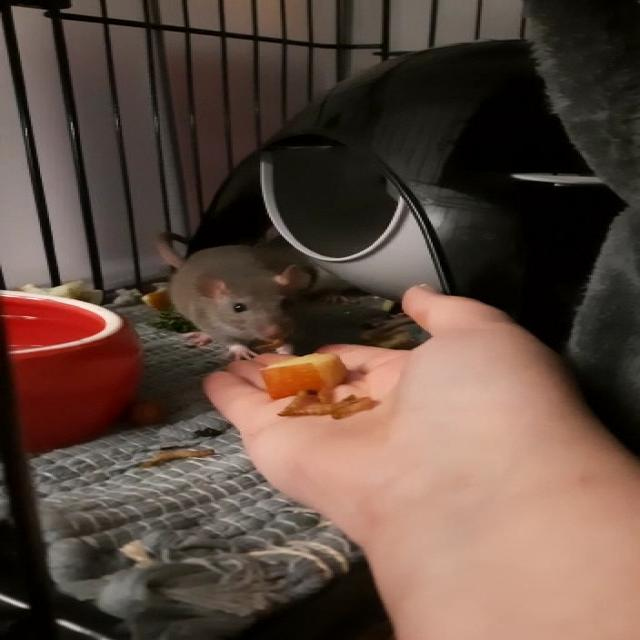rat: (161, 244, 324, 357)
